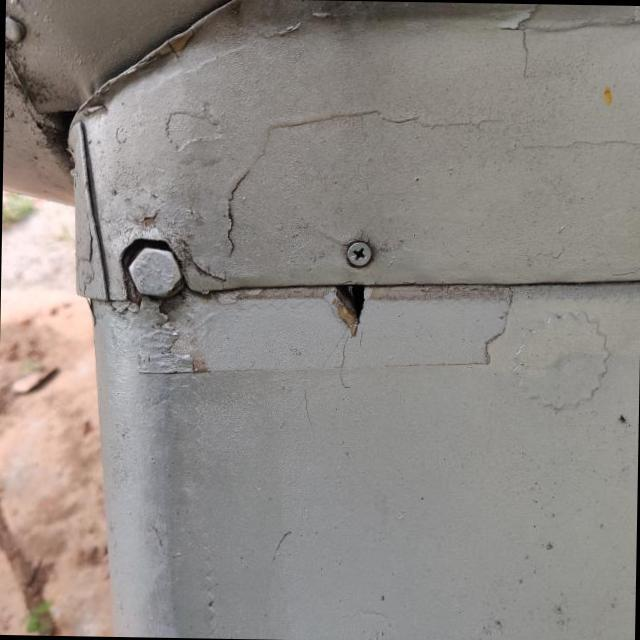Rupture: (295, 260, 400, 358)
